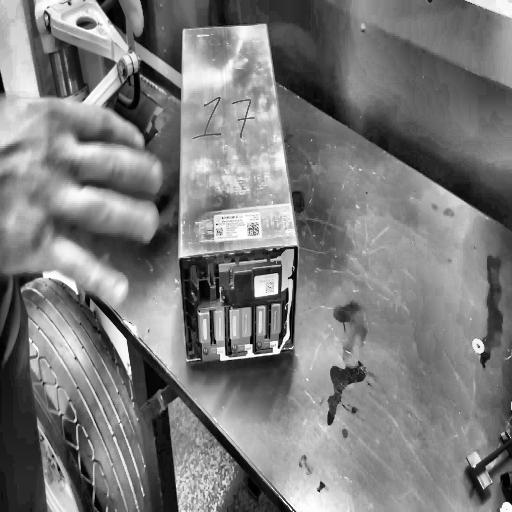battery_module: (179, 22, 298, 361)
